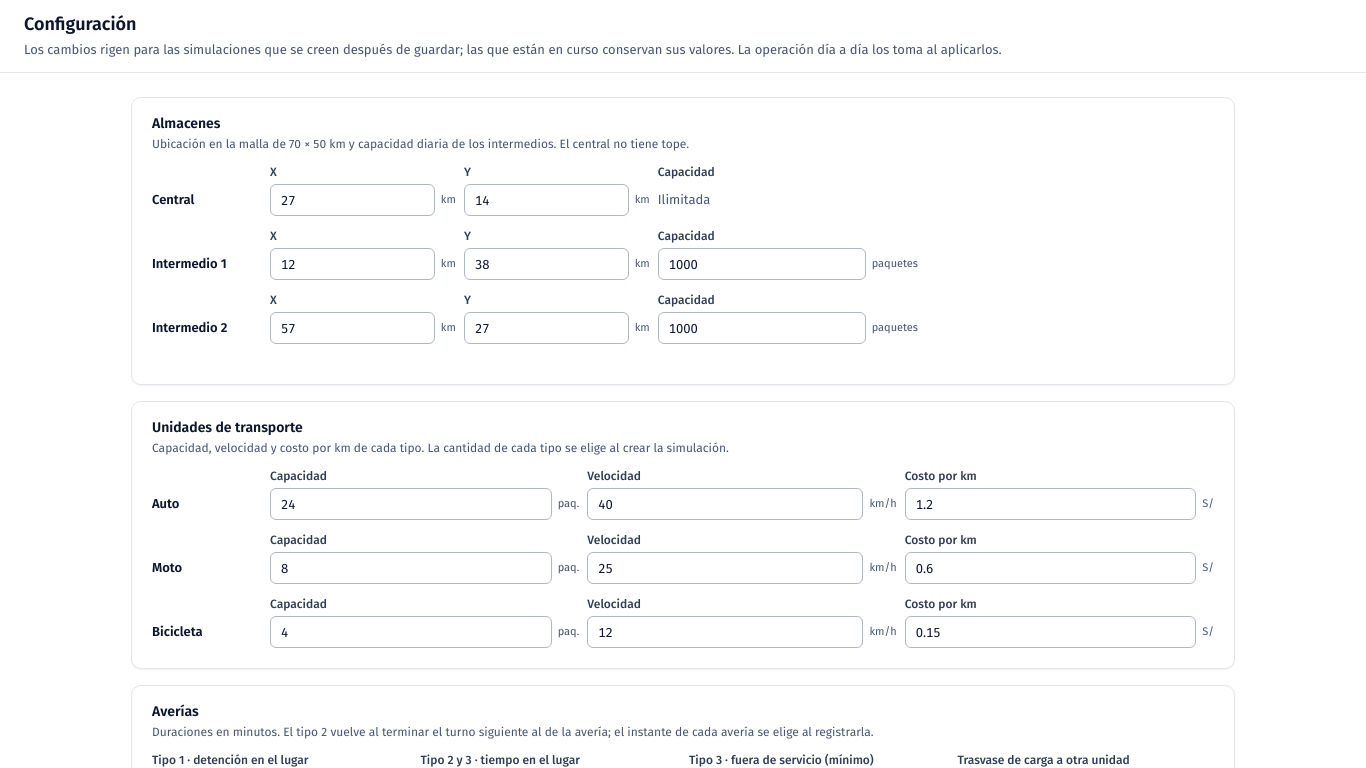
it: ModuloConfiguracion (B02, B04, B07-B09) › aplicar a la operación pide confirmación y reinicia el día a día
Replace the text in the field labelled "Velocidad" in the row of "Moto" with "30": (725, 568) 587,552 -> 863,584
(page scrolled)
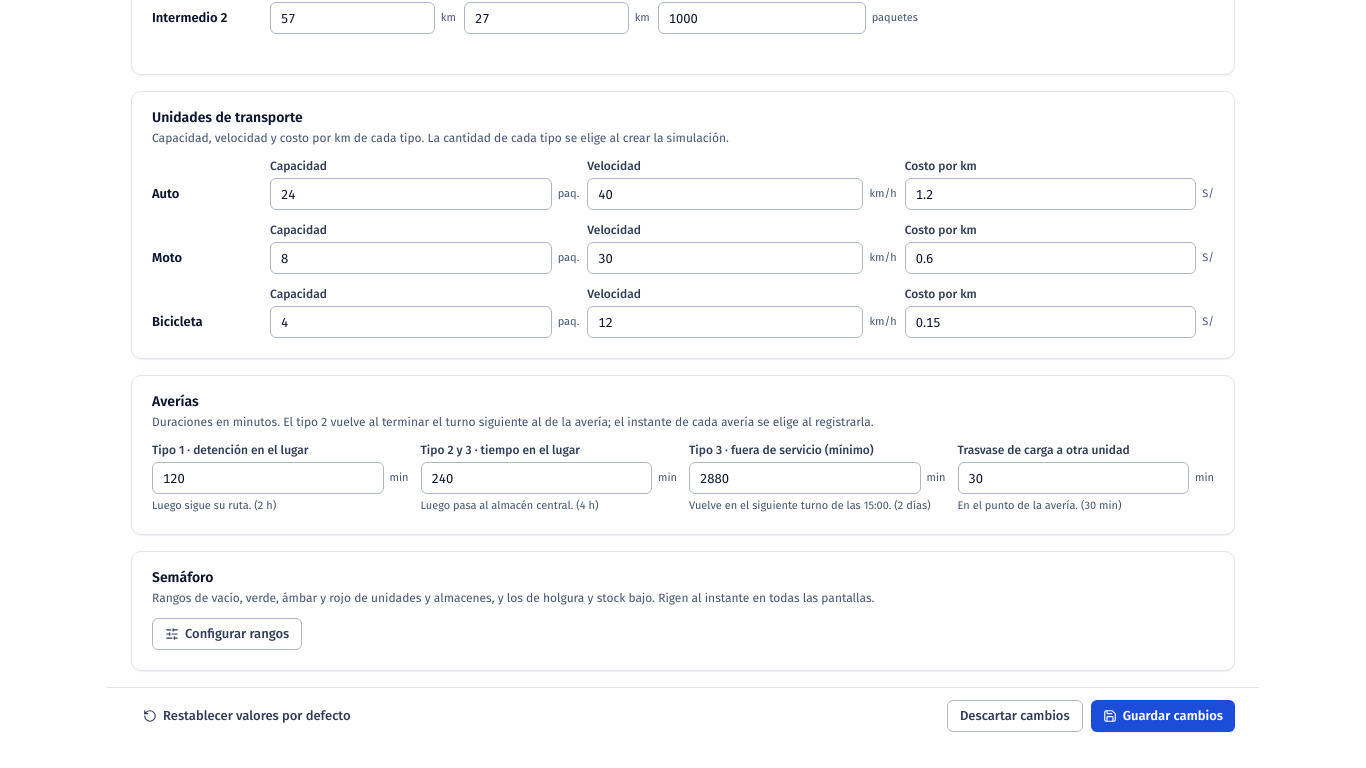
Click the button "Guardar cambios": (1163, 716) 1091,700 -> 1235,732
(page scrolled)
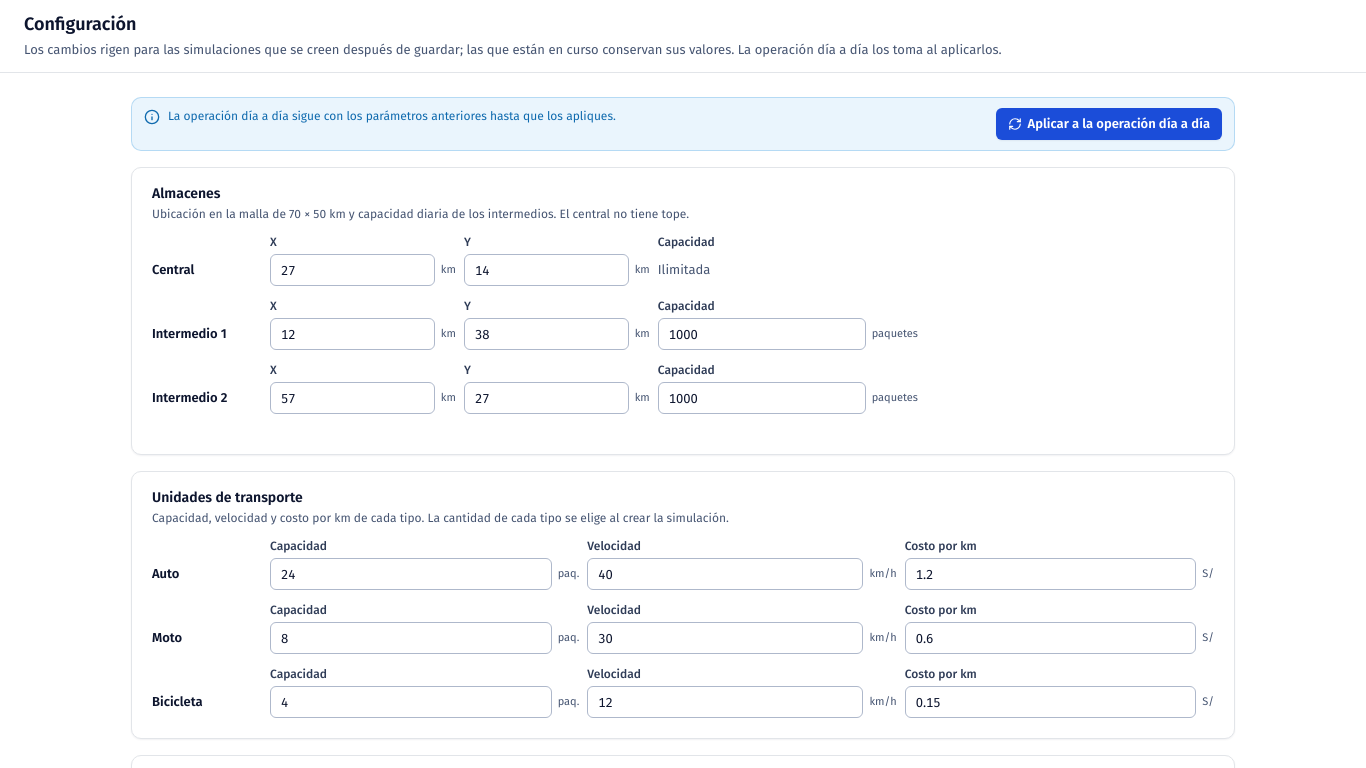
Click the button "Aplicar a la operación día a día": (1109, 124) 996,108 -> 1222,140
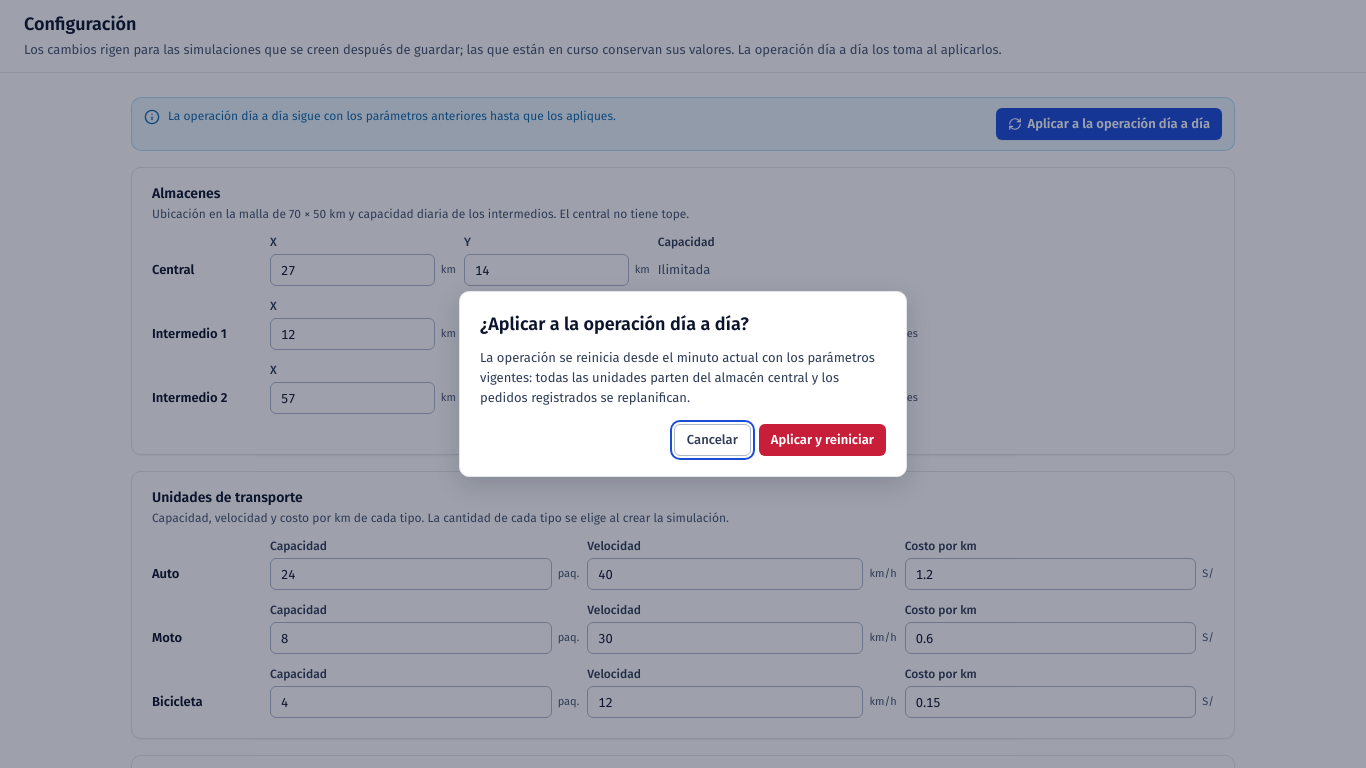
Click the button "Aplicar y reiniciar": (822, 440) 759,424 -> 886,456
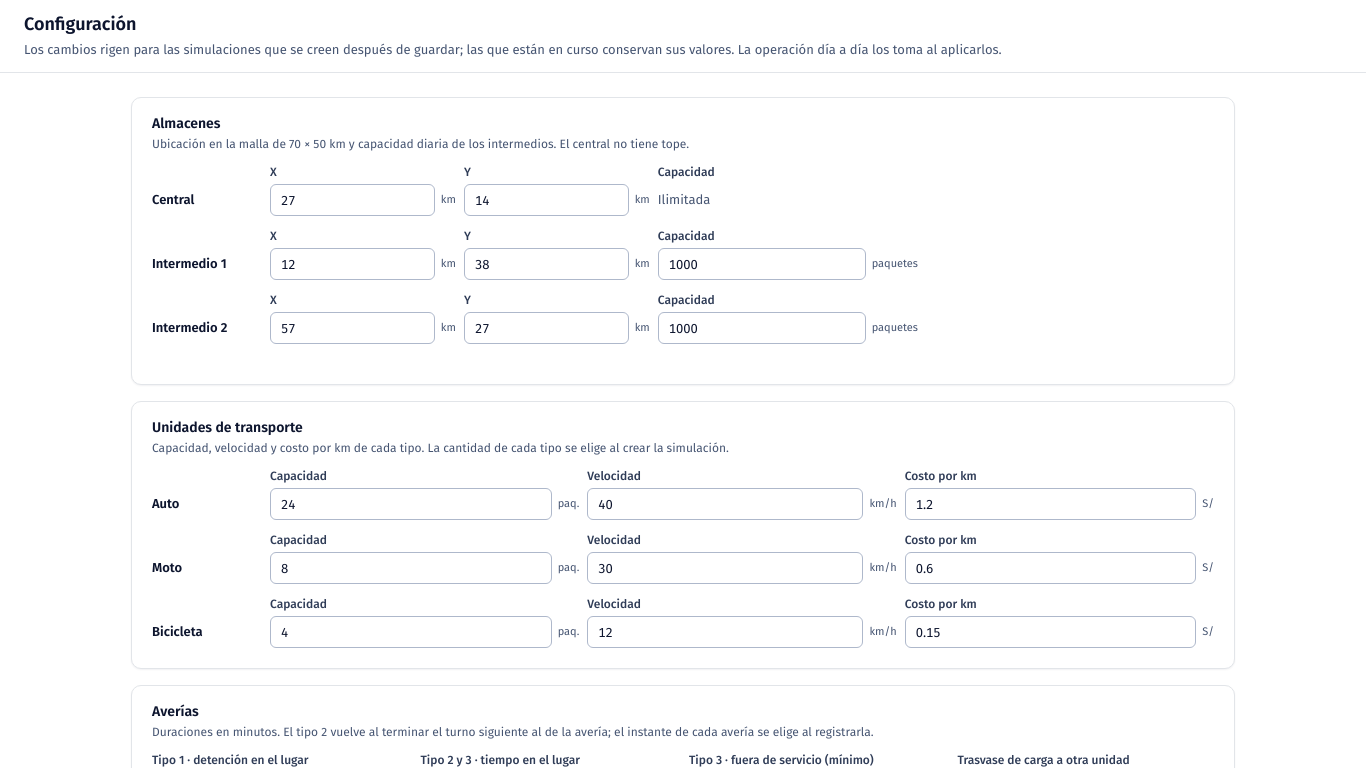
Result: the button "Aplicar a la operación día a día" is gone
